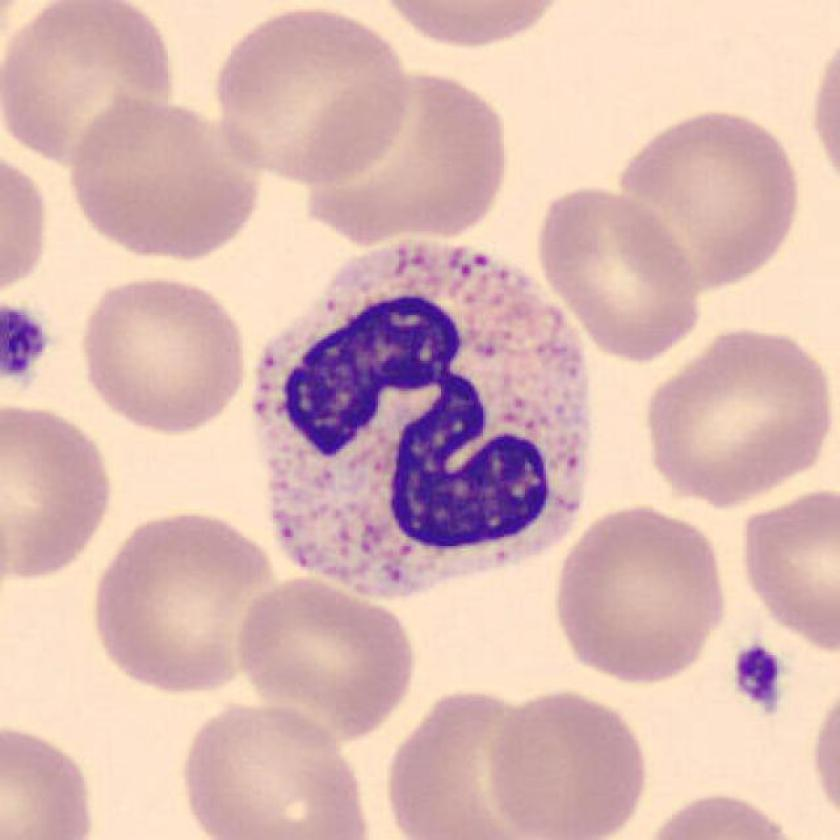neutrophil: (260, 242, 592, 593)
